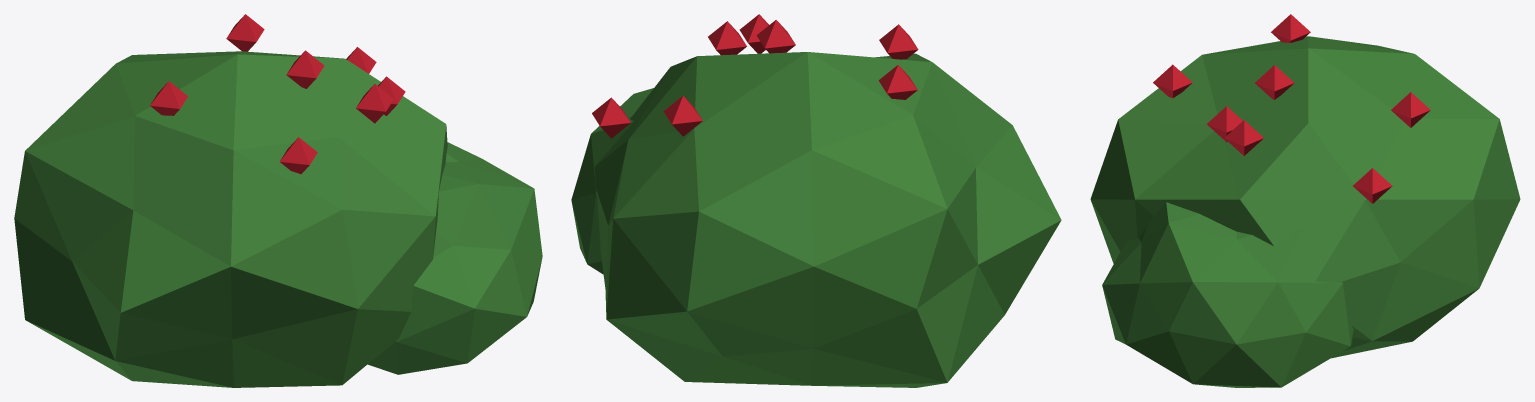
The model's file is bush_berry.obj.
The picture shows the model from 3 angles, left to right: view 1: azimuth 30°, elevation 25°; view 2: azimuth 150°, elevation 25°; view 3: azimuth 270°, elevation 25°; orthographic projection. The views are drawn at different scales.
Visible parts, largest first — view 1: bush_berry; view 2: bush_berry; view 3: bush_berry.
Part boxes in pixels (x1,y1,x2,y2): bush_berry: (14, 14, 542, 387); bush_berry: (571, 14, 1061, 387); bush_berry: (1090, 14, 1520, 387).
Size of the model in its own units: 1.61 by 1.13 by 1.5.
